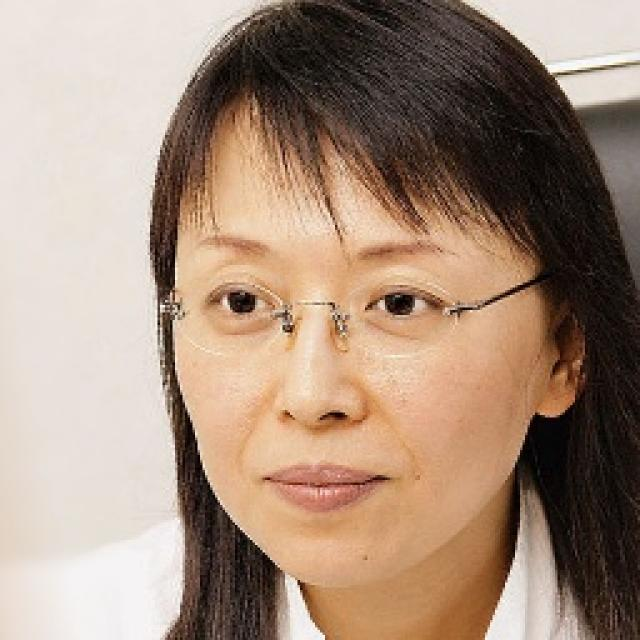glasses: (153, 262, 550, 358)
